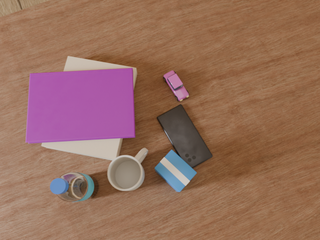book: (42, 56, 137, 161), (26, 68, 135, 143)
bottle: (50, 172, 98, 202)
box: (155, 150, 197, 192)
cup: (108, 148, 148, 191)
phone: (157, 104, 212, 168)
toy_car: (163, 71, 189, 101)
